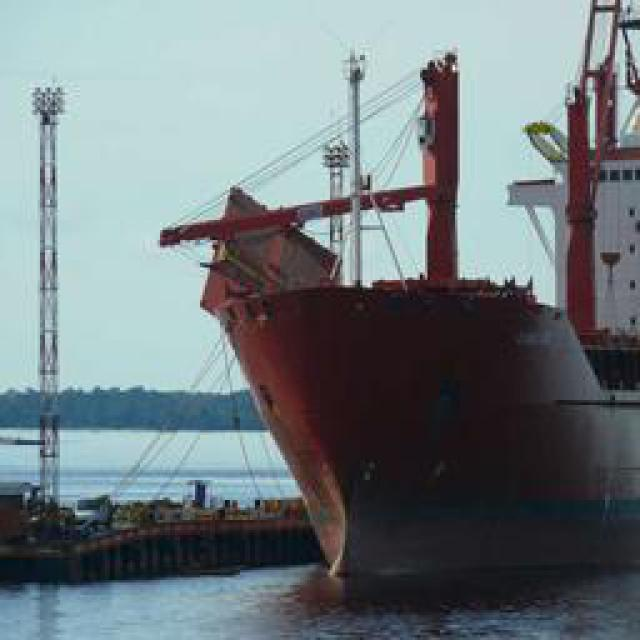Ship: (151, 52, 639, 592)
